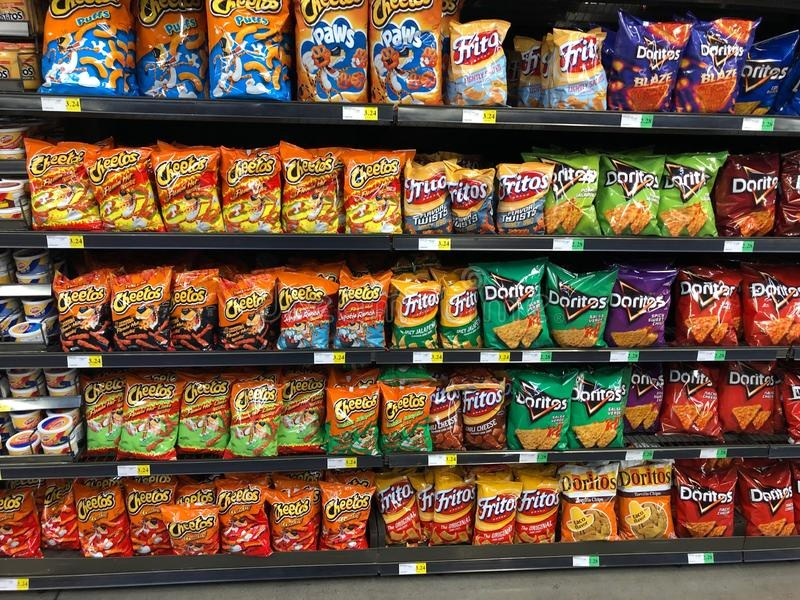chips: (470, 263, 554, 353), (151, 142, 230, 236), (21, 136, 100, 228), (90, 143, 164, 235), (606, 263, 674, 350), (281, 141, 343, 235), (112, 379, 180, 464), (545, 264, 611, 351), (221, 144, 284, 235), (657, 366, 727, 447), (50, 269, 116, 354), (345, 147, 408, 234), (216, 272, 283, 351), (506, 371, 569, 453), (677, 269, 740, 348), (108, 272, 170, 352), (561, 464, 618, 545), (672, 466, 735, 539), (384, 273, 441, 352), (174, 375, 228, 458), (73, 484, 135, 556), (167, 270, 220, 353), (321, 384, 381, 457), (210, 482, 269, 556), (567, 371, 625, 446), (379, 384, 436, 457), (334, 270, 388, 347), (225, 381, 278, 459), (320, 482, 380, 550), (743, 267, 800, 338), (266, 483, 319, 557), (159, 500, 222, 558)
